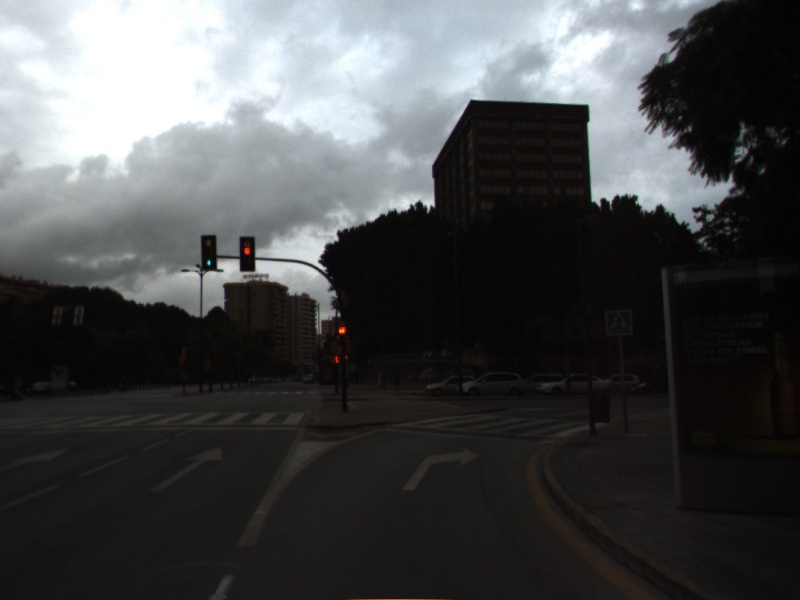RIGHT: (400, 445, 482, 493)
STRAIGHT: (148, 444, 225, 494), (1, 447, 71, 470)
